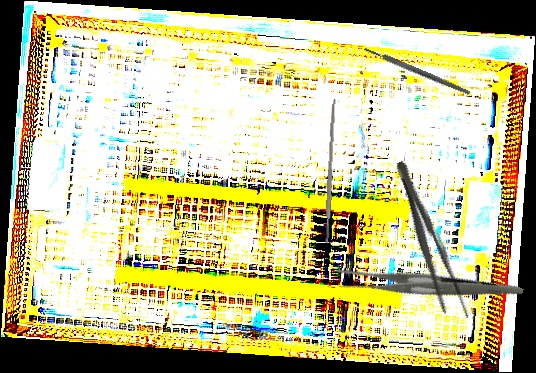Dressing Forceps: (332, 221, 524, 352), (386, 157, 474, 326)
Scalpel Handle: (362, 45, 472, 97), (323, 98, 337, 244)
